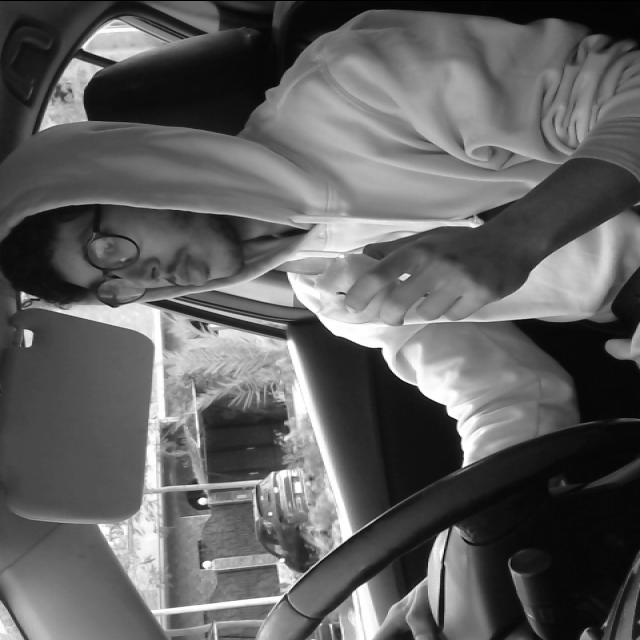eating: (312, 248, 404, 328)
